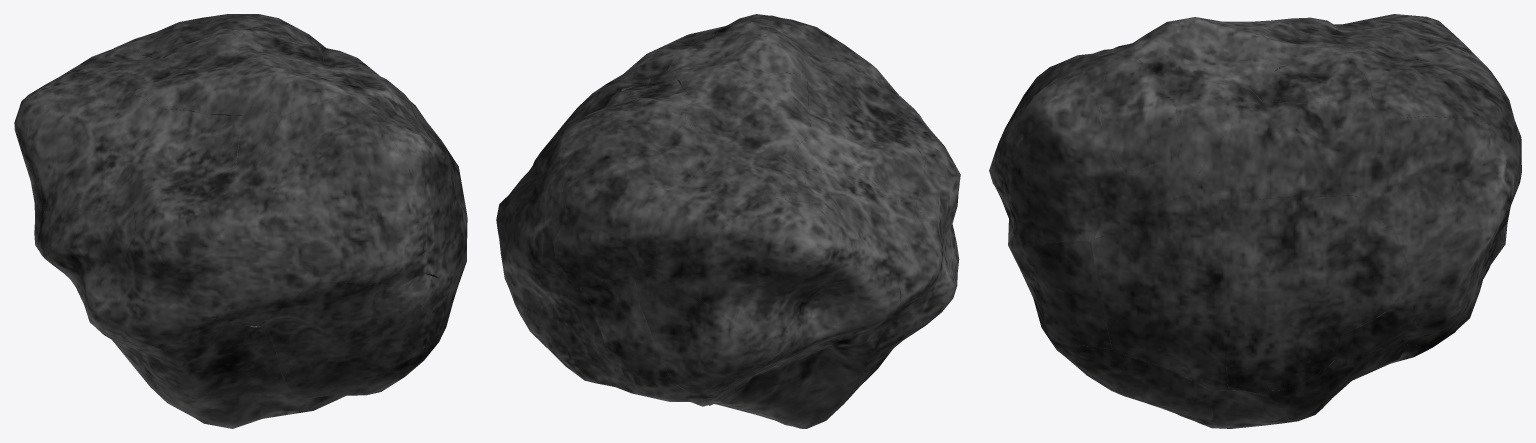
File: Asteroid2.fbx
3 renders of one model, left to right at view 1: azimuth 30°, elevation 25°; view 2: azimuth 150°, elevation 25°; view 3: azimuth 270°, elevation 25°, orthographic. The views are drawn at different scales.
Parts seen in each view (by area): view 1: Asteroid_no_6_cell.014, Asteroid_no_6_cell.043, Asteroid_no_6_cell.050, Asteroid_no_6_cell.063, Asteroid_no_6_cell.030, Asteroid_no_6_cell.012, Asteroid_no_6_cell.003, Asteroid_no_6_cell.046, Asteroid_no_6_cell.041, Asteroid_no_6_cell.035, Asteroid_no_6_cell.024, Asteroid_no_6_cell.025 (+20 smaller); view 2: Asteroid_no_6_cell.068, Asteroid_no_6_cell.010, Asteroid_no_6_cell.042, Asteroid_no_6_cell.020, Asteroid_no_6_cell.041, Asteroid_no_6_cell.074, Asteroid_no_6_cell.063, Asteroid_no_6_cell.035, Asteroid_no_6_cell.012, Asteroid_no_6_cell.057, Asteroid_no_6_cell.024, Asteroid_no_6_cell.055 (+19 smaller); view 3: Asteroid_no_6_cell.016, Asteroid_no_6_cell.002, Asteroid_no_6_cell.042, Asteroid_no_6_cell.023, Asteroid_no_6_cell.003, Asteroid_no_6_cell.035, Asteroid_no_6_cell.068, Asteroid_no_6_cell.036, Asteroid_no_6_cell.044, Asteroid_no_6_cell.017, Asteroid_no_6_cell.013, Asteroid_no_6_cell.045 (+13 smaller).
Boxes of the visible parts, bbox=[...] form: Asteroid_no_6_cell.014: bbox=[256, 110, 423, 285]; Asteroid_no_6_cell.043: bbox=[146, 165, 306, 327]; Asteroid_no_6_cell.050: bbox=[262, 280, 426, 395]; Asteroid_no_6_cell.063: bbox=[99, 109, 243, 208]; Asteroid_no_6_cell.030: bbox=[107, 323, 294, 399]; Asteroid_no_6_cell.012: bbox=[27, 101, 116, 211]; Asteroid_no_6_cell.003: bbox=[370, 111, 463, 278]; Asteroid_no_6_cell.046: bbox=[93, 206, 193, 325]; Asteroid_no_6_cell.041: bbox=[133, 41, 246, 115]; Asteroid_no_6_cell.035: bbox=[235, 47, 358, 116]; Asteroid_no_6_cell.024: bbox=[36, 209, 115, 343]; Asteroid_no_6_cell.025: bbox=[60, 52, 181, 104]; Asteroid_no_6_cell.068: bbox=[560, 110, 700, 267]; Asteroid_no_6_cell.010: bbox=[633, 265, 759, 396]; Asteroid_no_6_cell.042: bbox=[496, 125, 577, 314]; Asteroid_no_6_cell.020: bbox=[651, 225, 813, 322]; Asteroid_no_6_cell.041: bbox=[685, 73, 810, 153]; Asteroid_no_6_cell.074: bbox=[735, 232, 865, 366]; Asteroid_no_6_cell.063: bbox=[807, 81, 925, 204]; Asteroid_no_6_cell.035: bbox=[667, 22, 804, 101]; Asteroid_no_6_cell.012: bbox=[802, 170, 917, 266]; Asteroid_no_6_cell.057: bbox=[704, 346, 863, 417]; Asteroid_no_6_cell.024: bbox=[848, 209, 954, 370]; Asteroid_no_6_cell.055: bbox=[580, 274, 710, 400]; Asteroid_no_6_cell.016: bbox=[1212, 195, 1407, 349]; Asteroid_no_6_cell.002: bbox=[1091, 194, 1238, 389]; Asteroid_no_6_cell.042: bbox=[1379, 116, 1520, 294]; Asteroid_no_6_cell.023: bbox=[1191, 101, 1386, 209]; Asteroid_no_6_cell.003: bbox=[1001, 68, 1124, 246]; Asteroid_no_6_cell.035: bbox=[1134, 17, 1319, 88]; Asteroid_no_6_cell.068: bbox=[1355, 46, 1512, 129]; Asteroid_no_6_cell.036: bbox=[1018, 241, 1112, 349]; Asteroid_no_6_cell.044: bbox=[1098, 58, 1181, 174]; Asteroid_no_6_cell.017: bbox=[1226, 301, 1334, 393]; Asteroid_no_6_cell.013: bbox=[1206, 339, 1407, 428]; Asteroid_no_6_cell.045: bbox=[1042, 326, 1213, 425].
Bounding box in the file's own units: 721 × 638 × 798.
Materials: 1 (1 with a texture image).
